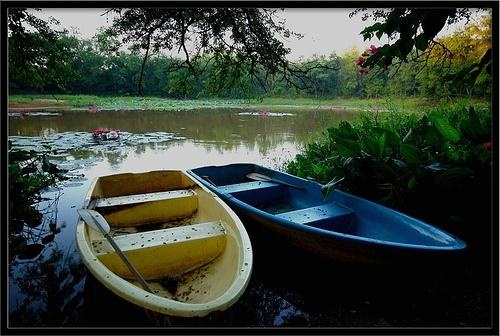boat: (184, 160, 472, 269), (80, 168, 254, 312)
